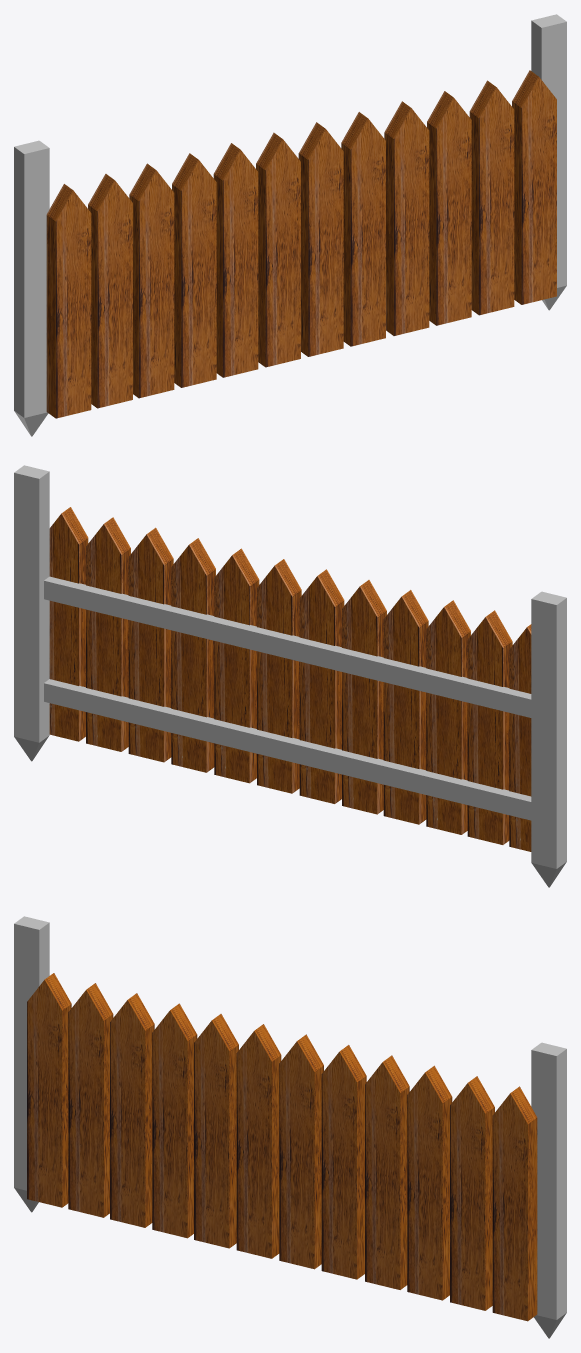
The model's file is fence.fbx.
The picture shows the model from 3 angles, top to bottom: view 1: azimuth 30°, elevation 25°; view 2: azimuth 150°, elevation 25°; view 3: azimuth 330°, elevation 25°; orthographic projection.
Parts seen in each view (by area): view 1: main, plank, plank.001; view 2: main, plank, plank.001; view 3: main, plank.001, plank.
Boxes of the visible parts, left/top/right/bottom form: main: left=46, top=70, right=556, bottom=418; plank: left=14, top=140, right=49, bottom=436; plank.001: left=531, top=14, right=566, bottom=310; main: left=44, top=507, right=531, bottom=851; plank: left=531, top=591, right=566, bottom=887; plank.001: left=14, top=465, right=49, bottom=761; main: left=27, top=973, right=537, bottom=1321; plank.001: left=531, top=1042, right=566, bottom=1338; plank: left=14, top=916, right=49, bottom=1212.
Size of the model in its own units: 254 by 129 by 15.88.
